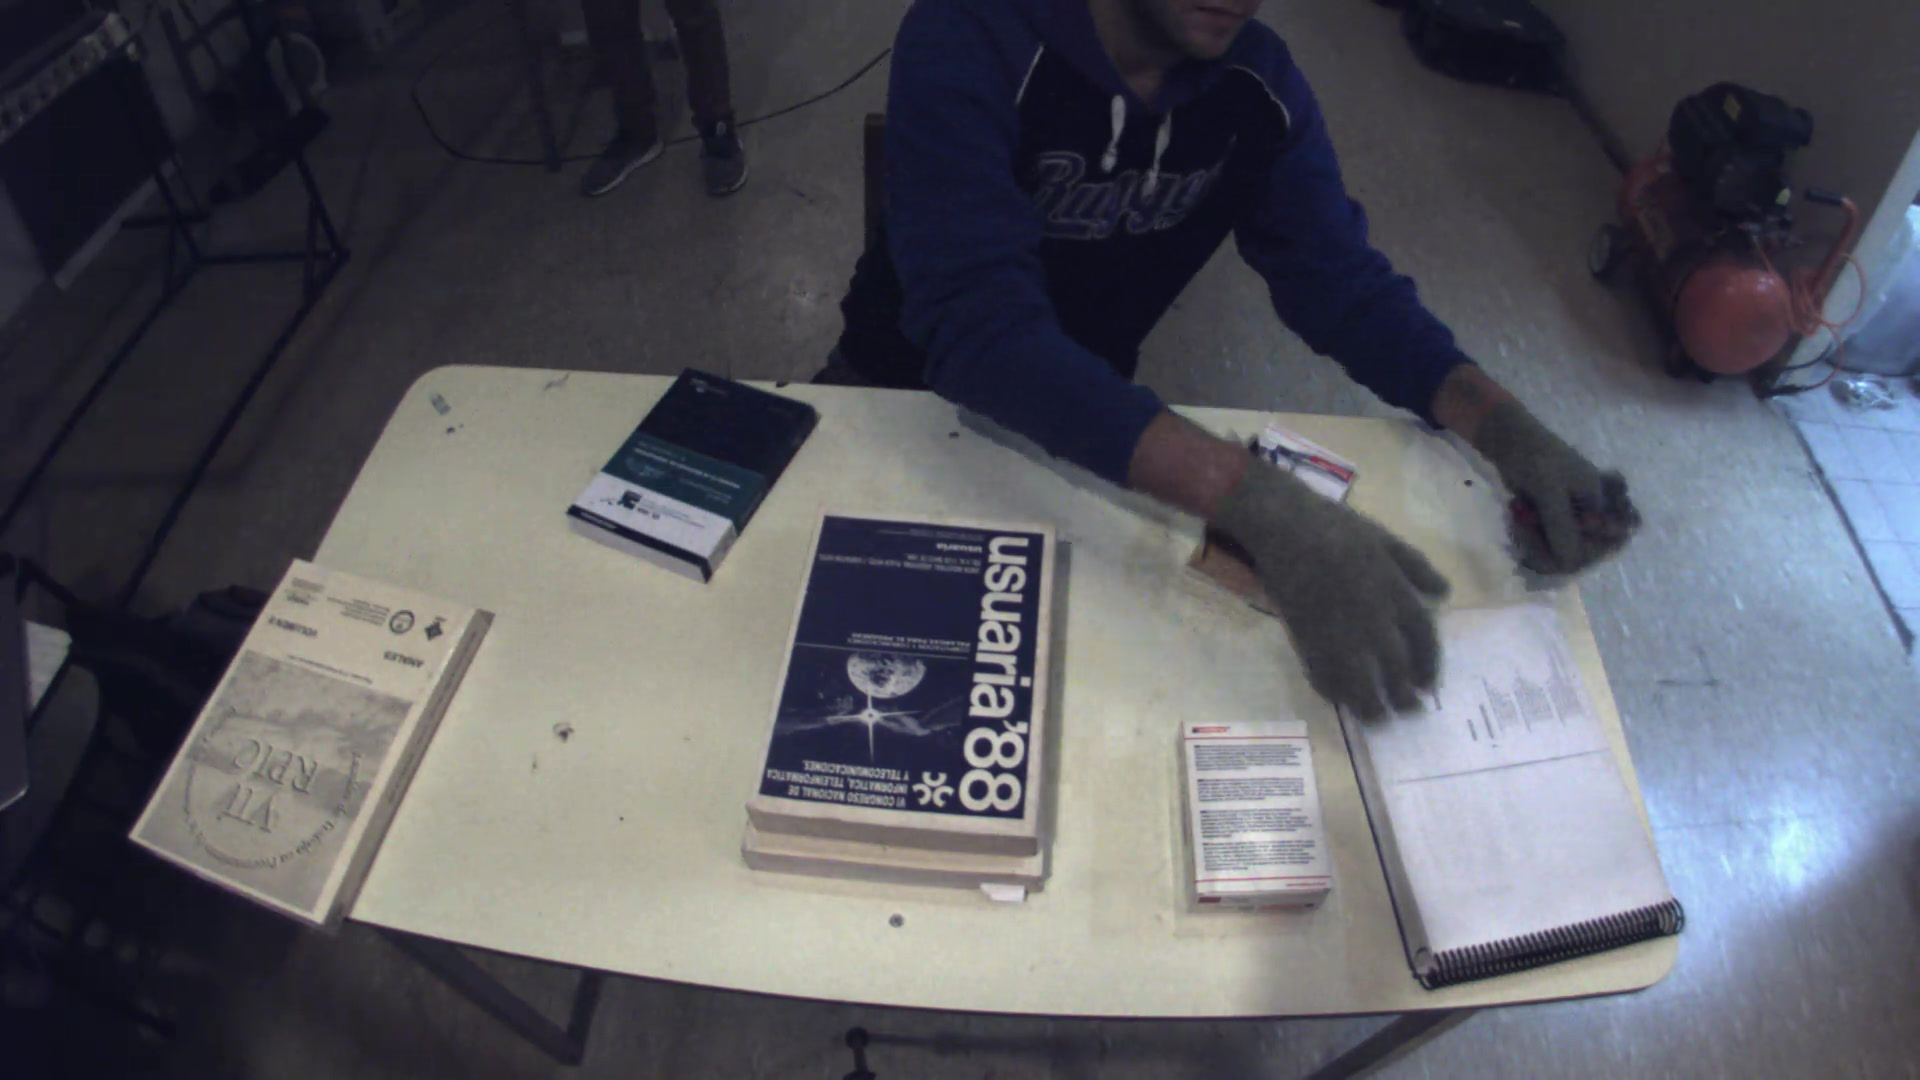hand: (1189, 443, 1465, 721), (1451, 380, 1642, 572)
